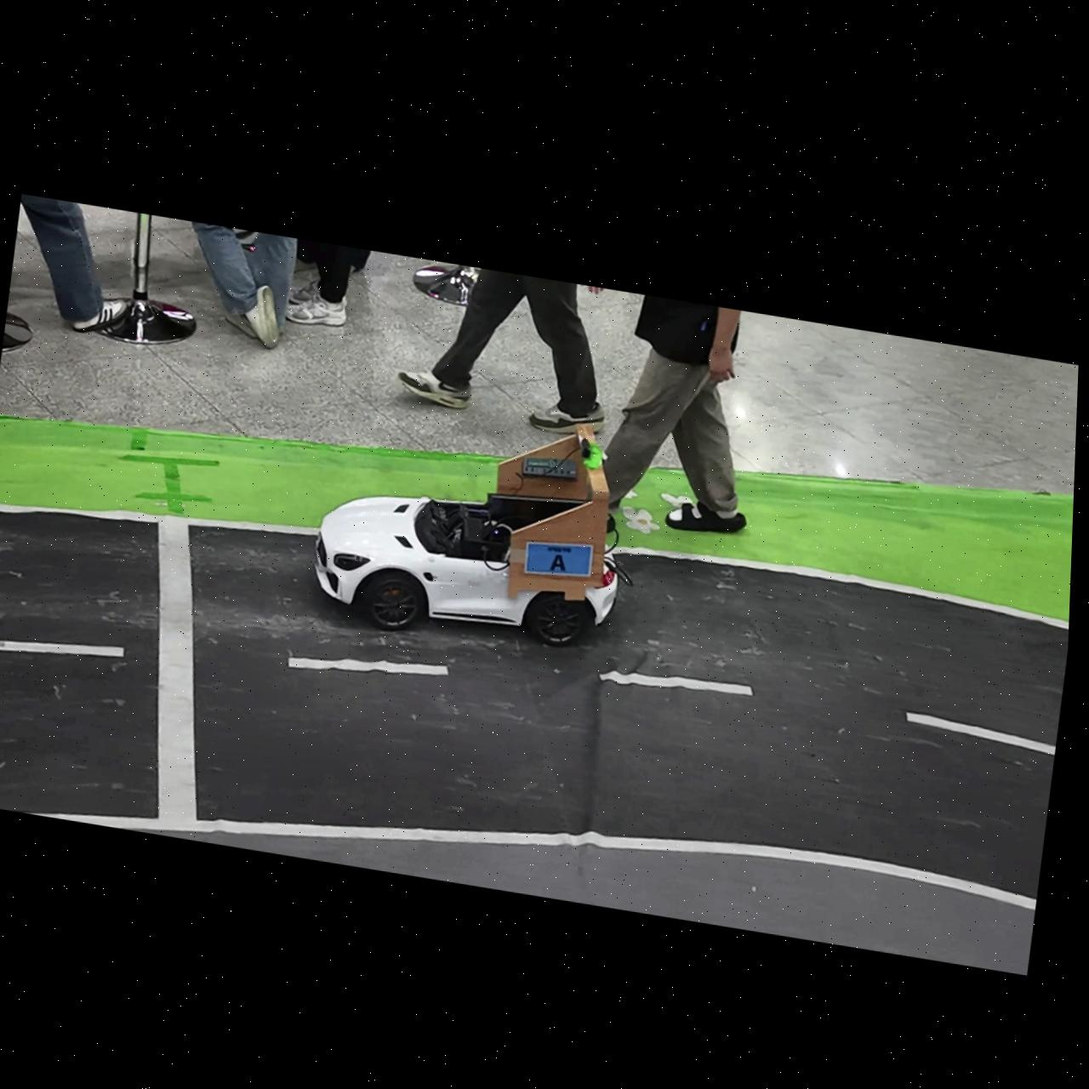broken_line: (907, 713, 1055, 755), (599, 670, 753, 696), (289, 658, 448, 676), (0, 641, 124, 657)
